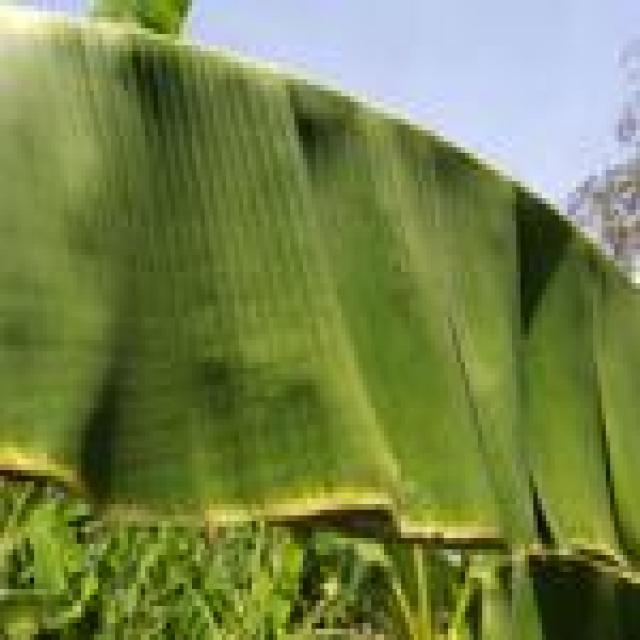Early_rust: (0, 369, 640, 621)
